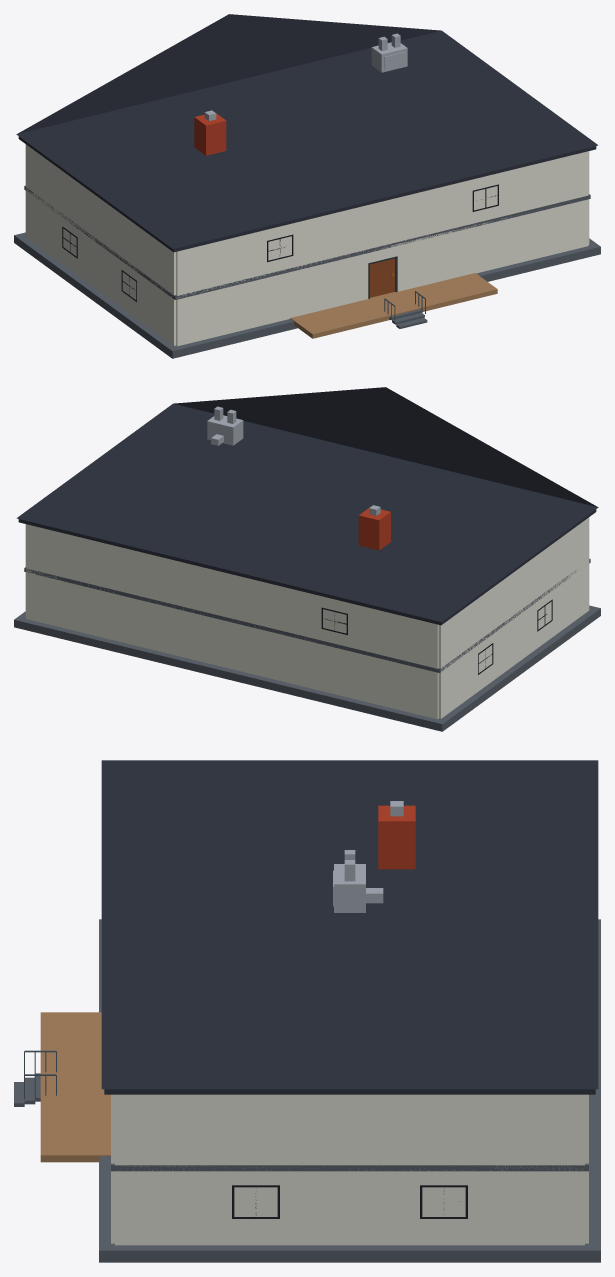
File: bp_proj20_blueprint.pd.obj
The picture shows the model from 3 angles, top to bottom: view 1: azimuth 30°, elevation 25°; view 2: azimuth 150°, elevation 25°; view 3: azimuth 270°, elevation 25°; orthographic projection. The views are drawn at different scales.
Visible parts, largest first — view 1: Roof_Gable_Pitch, Ext_Wall_South_2F, Ext_Wall_South_R, Ext_Wall_South_L, Ext_Wall_West, Ext_Wall_West_2F, Foundation_Slab, Porch_Deck, Second_Floor_Slab, Roof_Cap_Base, Masonry_Chimney, Main_Front_Door_Panel (+1 smaller); view 2: Roof_Gable_Pitch, Ext_Wall_North, Ext_Wall_North_2F, Foundation_Slab, Ext_Wall_West, Ext_Wall_West_2F, Second_Floor_Slab, Roof_Cap_Base, Masonry_Chimney, Roof_Ridge_Vent_HVAC_Unit; view 3: Roof_Gable_Pitch, Ext_Wall_East, Ext_Wall_East_2F, Foundation_Slab, Porch_Deck, Second_Floor_Slab, Roof_Cap_Base, Masonry_Chimney, Roof_Ridge_Vent_HVAC_Unit.
Boxes of the visible parts, left/top/right/bottom form: Roof_Gable_Pitch: left=16, top=14, right=598, bottom=248; Ext_Wall_South_2F: left=176, top=151, right=588, bottom=295; Ext_Wall_South_R: left=397, top=199, right=588, bottom=291; Ext_Wall_South_L: left=176, top=253, right=368, bottom=346; Ext_Wall_West: left=25, top=189, right=176, bottom=345; Ext_Wall_West_2F: left=25, top=144, right=176, bottom=295; Foundation_Slab: left=14, top=232, right=600, bottom=358; Porch_Deck: left=290, top=273, right=497, bottom=338; Second_Floor_Slab: left=24, top=185, right=590, bottom=299; Roof_Cap_Base: left=18, top=136, right=596, bottom=252; Masonry_Chimney: left=194, top=112, right=226, bottom=155; Main_Front_Door_Panel: left=370, top=258, right=395, bottom=297; Roof_Gable_Pitch: left=16, top=387, right=598, bottom=621; Ext_Wall_North: left=26, top=570, right=438, bottom=719; Ext_Wall_North_2F: left=26, top=524, right=438, bottom=668; Foundation_Slab: left=14, top=605, right=600, bottom=731; Ext_Wall_West: left=438, top=562, right=589, bottom=718; Ext_Wall_West_2F: left=438, top=517, right=589, bottom=669; Second_Floor_Slab: left=24, top=558, right=590, bottom=672; Roof_Cap_Base: left=18, top=509, right=596, bottom=625; Masonry_Chimney: left=358, top=507, right=390, bottom=550; Roof_Ridge_Vent_HVAC_Unit: left=207, top=415, right=243, bottom=445; Roof_Gable_Pitch: left=101, top=760, right=598, bottom=1089; Ext_Wall_East: left=115, top=1168, right=584, bottom=1245; Ext_Wall_East_2F: left=115, top=1094, right=584, bottom=1167; Foundation_Slab: left=99, top=919, right=600, bottom=1262; Porch_Deck: left=40, top=1012, right=110, bottom=1162; Second_Floor_Slab: left=111, top=1163, right=588, bottom=1171; Roof_Cap_Base: left=104, top=1089, right=595, bottom=1094; Masonry_Chimney: left=378, top=805, right=415, bottom=869; Roof_Ridge_Vent_HVAC_Unit: left=334, top=864, right=365, bottom=912.
Size of the model in its own units: 29.5 by 13.06 by 22.1.
